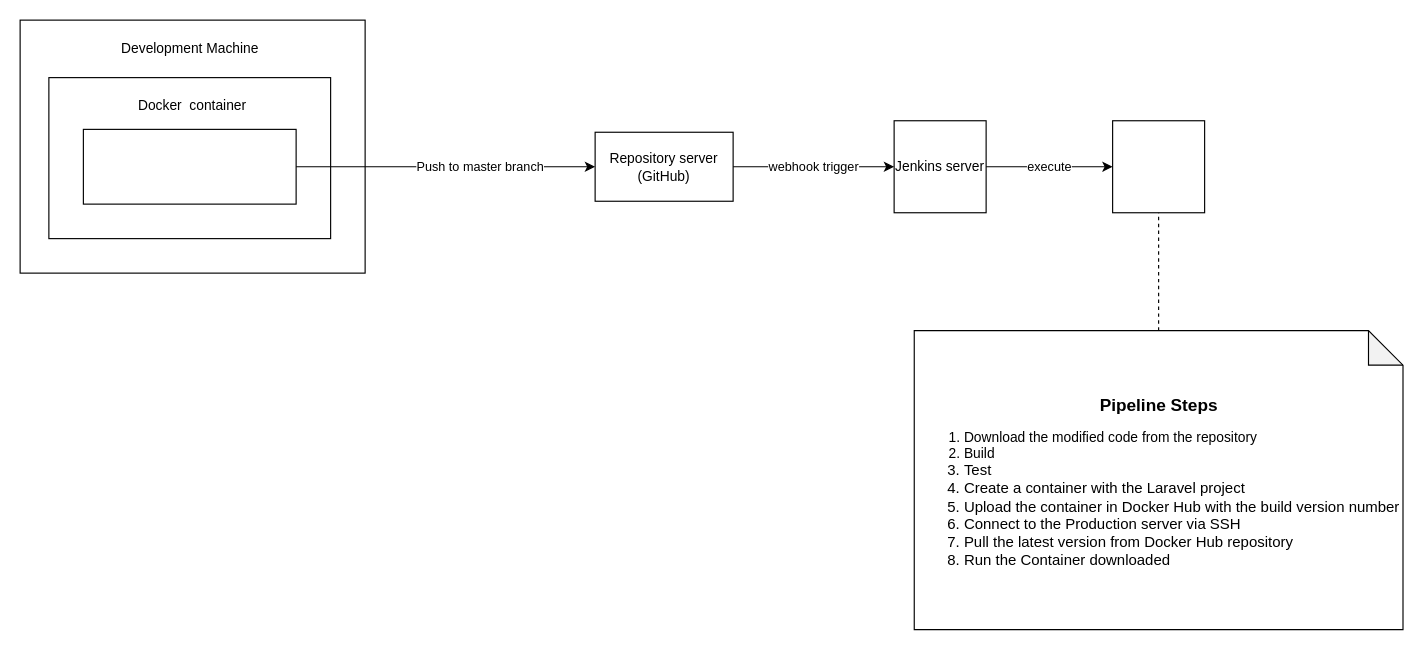
Some shapes in this 1424 by 650 pixel diagram are drawn without their labels. The shapes that lost their labels are listed below. From the top down, each one's centre as x and y in pixels, then its label:
(x=189, y=166): Laravel Project
(x=1158, y=166): Jenkins job (pipeline)
